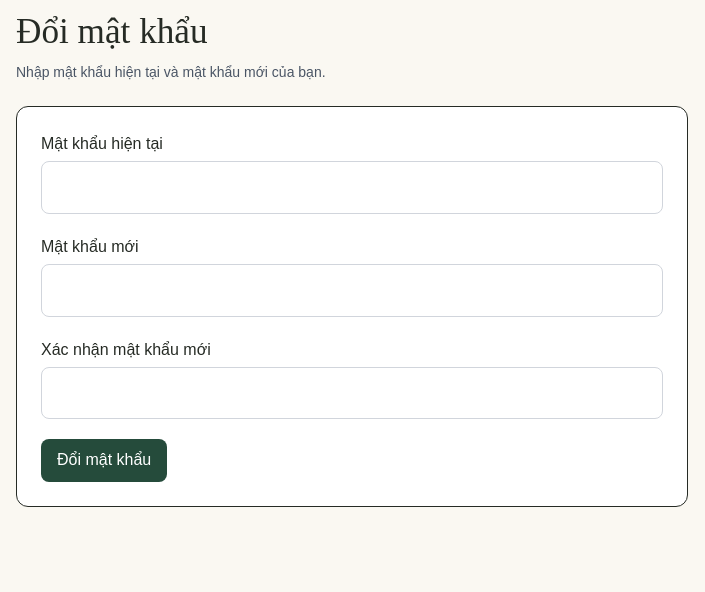
Test: change-password shows a safe API error without exposing server detail
The width and height of the screenshot is (705, 592).
Type "Old-password@123" into the password field labelled "Mật khẩu hiện tại".
click(352, 188); type("Old-password@123")  # box top-left (41, 161), bottom-right (663, 214)
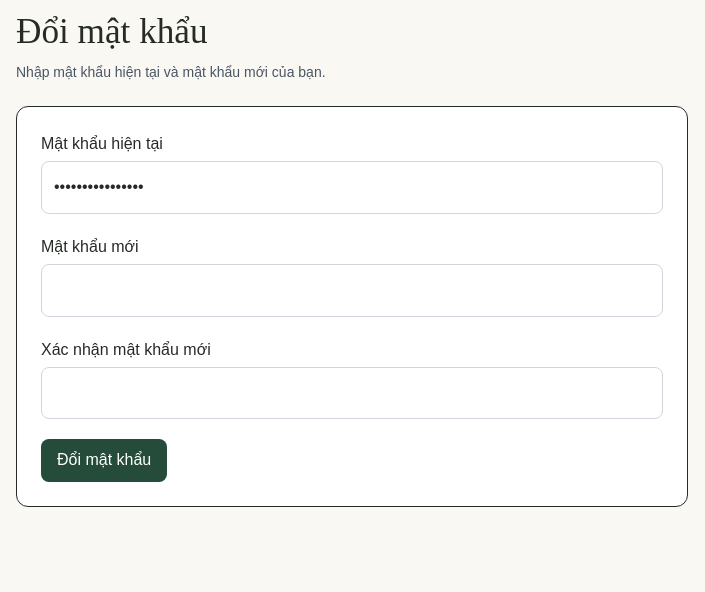
Type "New-password@456" into the password field labelled "Mật khẩu mới".
click(352, 290); type("New-password@456")  # box top-left (41, 264), bottom-right (663, 317)
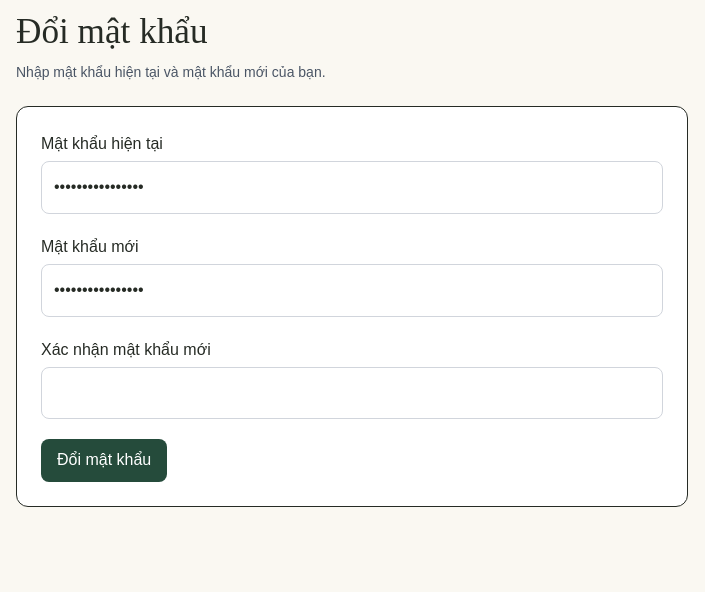
Type "New-password@456" into the password field labelled "Xác nhận mật khẩu mới".
click(352, 393); type("New-password@456")  # box top-left (41, 367), bottom-right (663, 419)
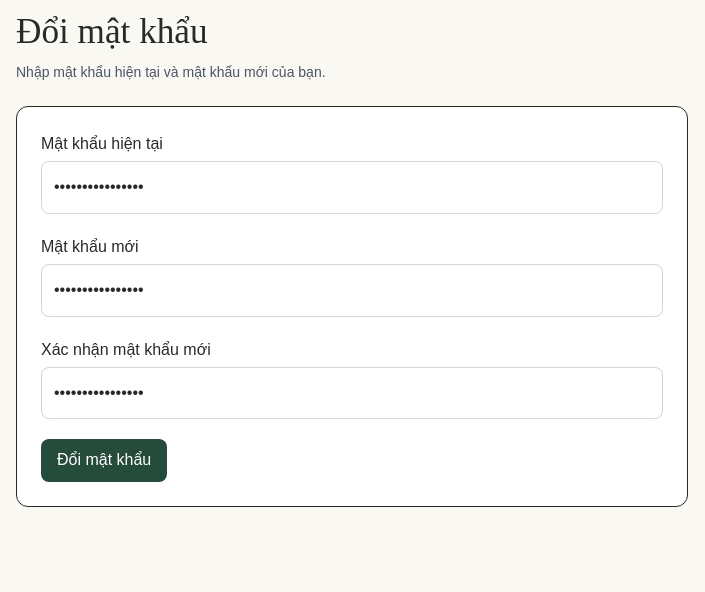
Submit the form
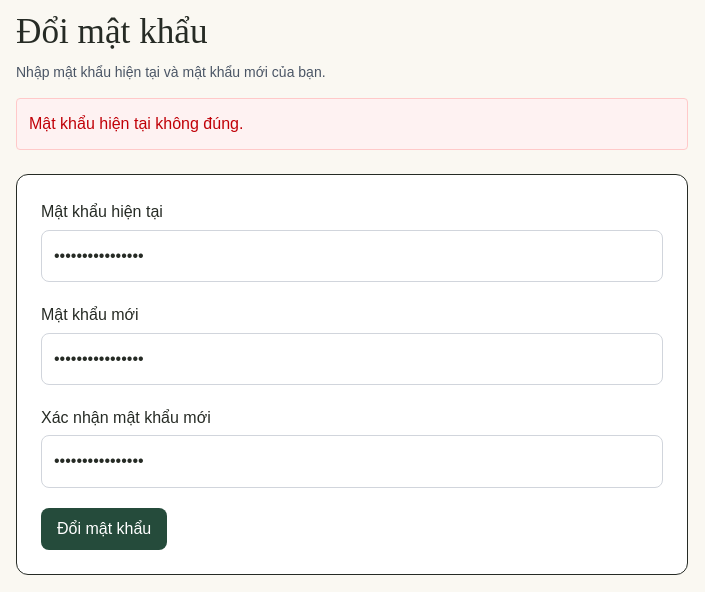
Expected: the text "Mật khẩu hiện tại không đúng" is shown, top-left (29, 115), bottom-right (243, 132)
